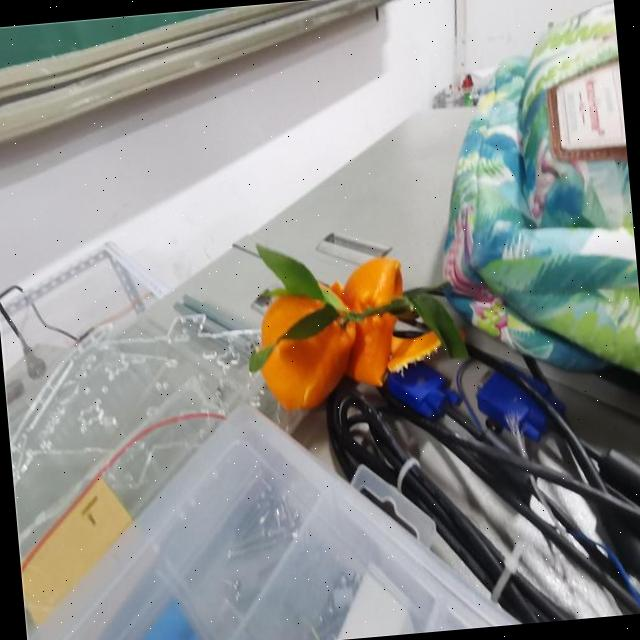orange-peel: (246, 250, 445, 414), (250, 277, 362, 413)
